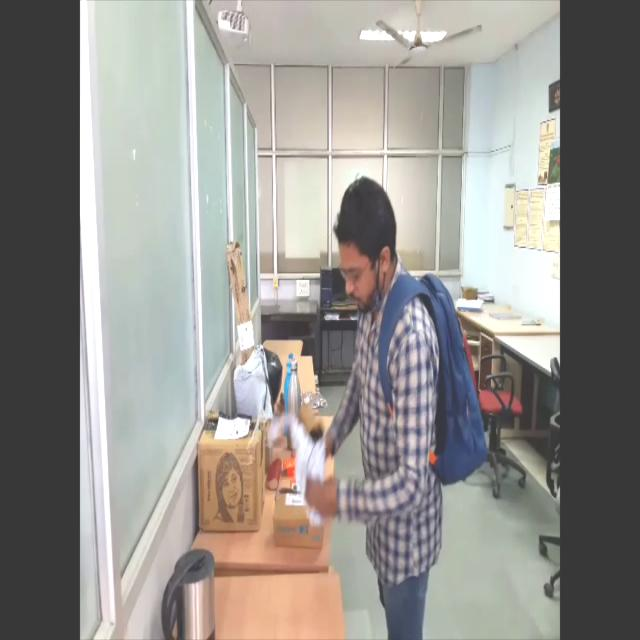normal: (272, 154, 486, 640)
